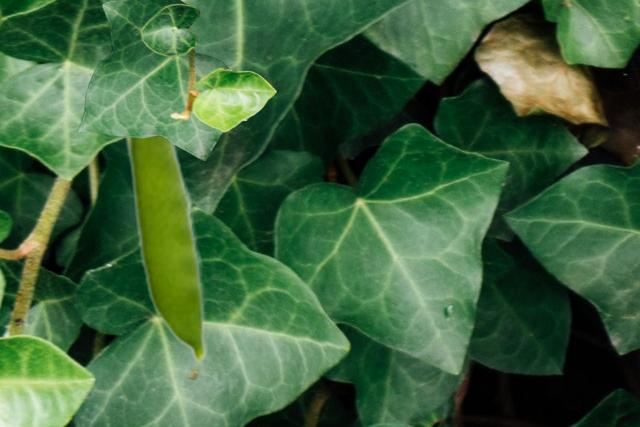pea: (122, 137, 208, 367)
